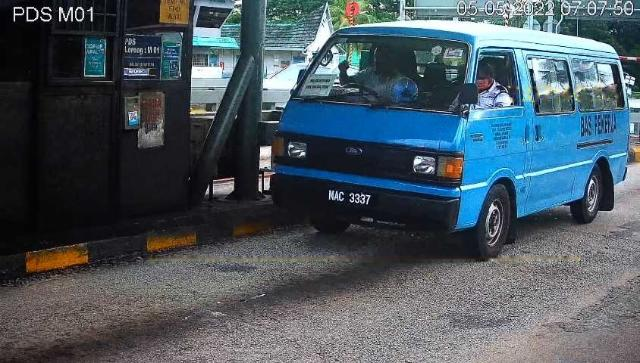License_Plate: (324, 188, 375, 213)
van: (273, 22, 632, 261)
